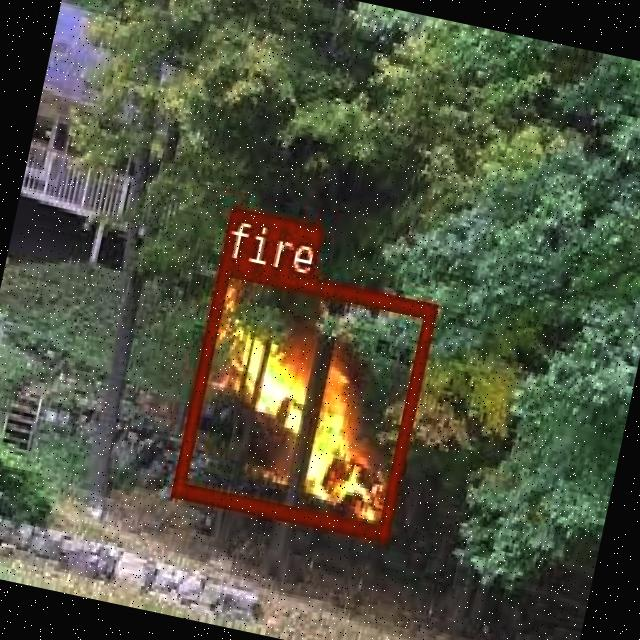fire: (170, 255, 435, 539)
